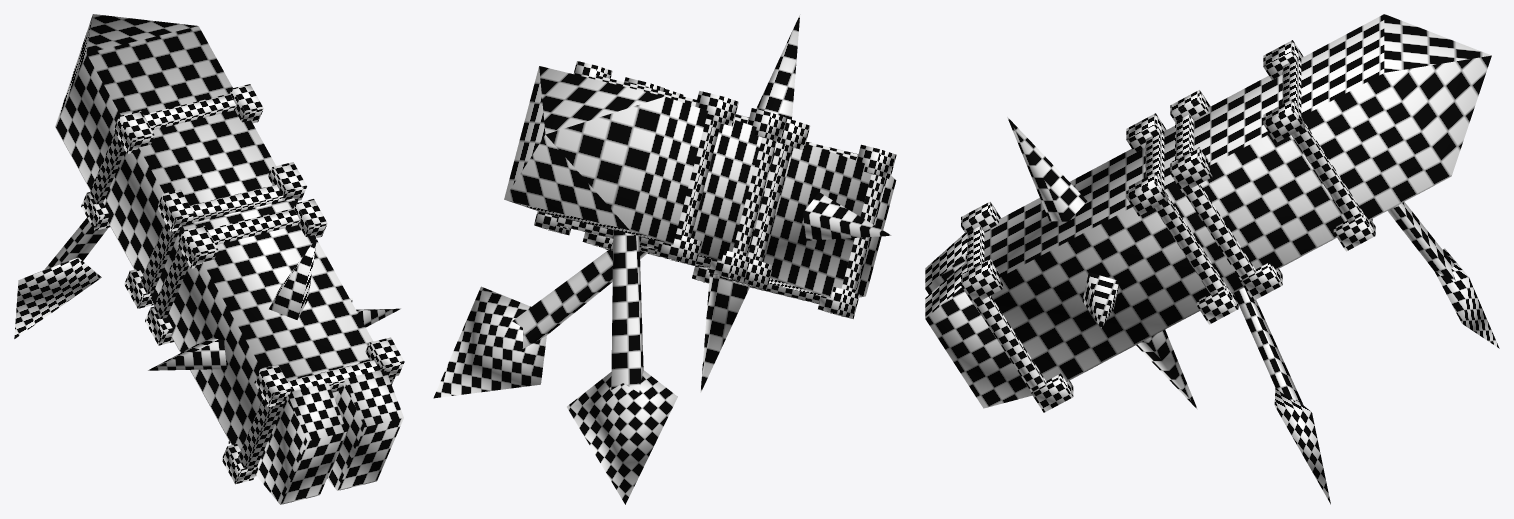
File: stst61.dae
3 renders of one model, left to right at view 1: azimuth 30°, elevation 25°; view 2: azimuth 150°, elevation 25°; view 3: azimuth 270°, elevation 25°, orthographic. The views are drawn at different scales.
Parts seen in each view (by area): view 1: golem01; view 2: golem01; view 3: golem01.
Boxes of the visible parts, <box> form: golem01: <box>14,14,404,504</box>; golem01: <box>433,14,896,504</box>; golem01: <box>925,14,1499,504</box>.
Bounding box in the file's own units: 1 × 1.53 × 1.09.
Materials: 1 (1 with a texture image).
